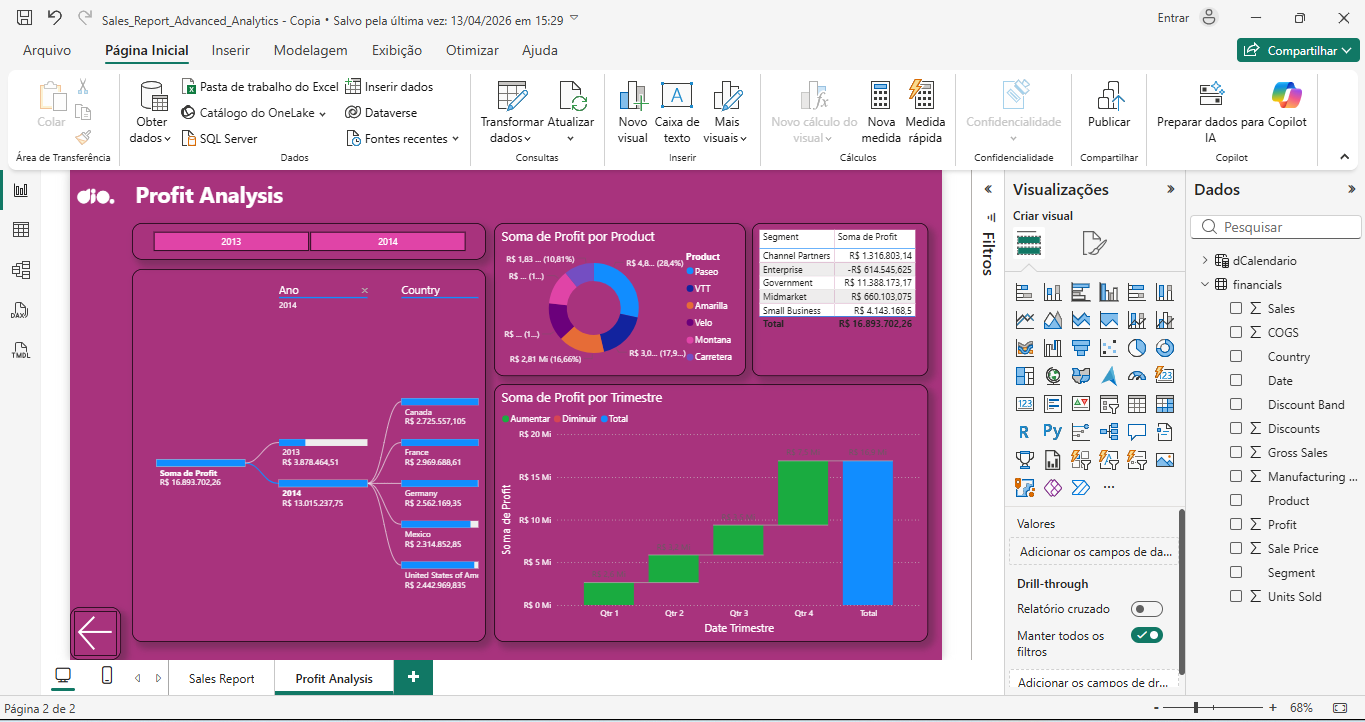

This screenshot's page, from the dashboard's own definition file:
{"tool":"powerbi","page":{"name":"Profit Analysis","canvas":[1280,720],"ordinal":1},"visuals":[{"type":"decompositionTreeVisual","fields":{"Analyze":["Sum(financials.Profit)"],"ExplainBy":["dCalendario.Date.Variation.Hierarquia de datas.Ano","financials.Country"]},"box":[91.1,145.5,520.2,548.1],"z":8000},{"type":"donutChart","fields":{"Category":["financials.Product"],"Y":["Sum(financials.Profit)"]},"box":[623,77.9,370.3,224.8],"z":9000},{"type":"tableEx","fields":{"Values":["financials.Segment","Sum(financials.Profit)"]},"box":[1002.1,77.9,258.6,224.8],"z":10000},{"type":"waterfallChart","fields":{"Y":["Sum(financials.Profit)"],"Category":["dCalendario.Date.Variation.Hierarquia de datas.Trimestre"]},"box":[623,314.4,637.7,379.1],"z":11000},{"type":"slicer","fields":{"Values":["dCalendario.Date.Variation.Hierarquia de datas.Ano"]},"box":[91.1,77.9,520.2,54.4],"z":12000},{"type":"actionButton","box":[0,642.3,74.7,77.7],"z":13000},{"type":"textbox","box":[91.1,8.8,238,57.3],"z":15000},{"type":"image","box":[1.5,0,73.2,77.7],"z":16000}]}

Visuals, with their boxes on the page's 1280x720 design canvas (x1, y1, x2, y2). These are canvas units, not pixel positions in the 1365x722 screenshot, which may show the page scaled, cropped or inside an application window:
decompositionTreeVisual - Sum(financials.Profit) x dCalendario.Date.Variation.Hierarquia de datas.Ano: 91, 146, 611, 694
donutChart - financials.Product x Sum(financials.Profit): 623, 78, 993, 303
tableEx - financials.Segment x Sum(financials.Profit): 1002, 78, 1261, 303
waterfallChart - Sum(financials.Profit) x dCalendario.Date.Variation.Hierarquia de datas.Trimestre: 623, 314, 1261, 694
slicer - dCalendario.Date.Variation.Hierarquia de datas.Ano: 91, 78, 611, 132
actionButton: 0, 642, 75, 720
textbox: 91, 9, 329, 66
image: 2, 0, 75, 78
